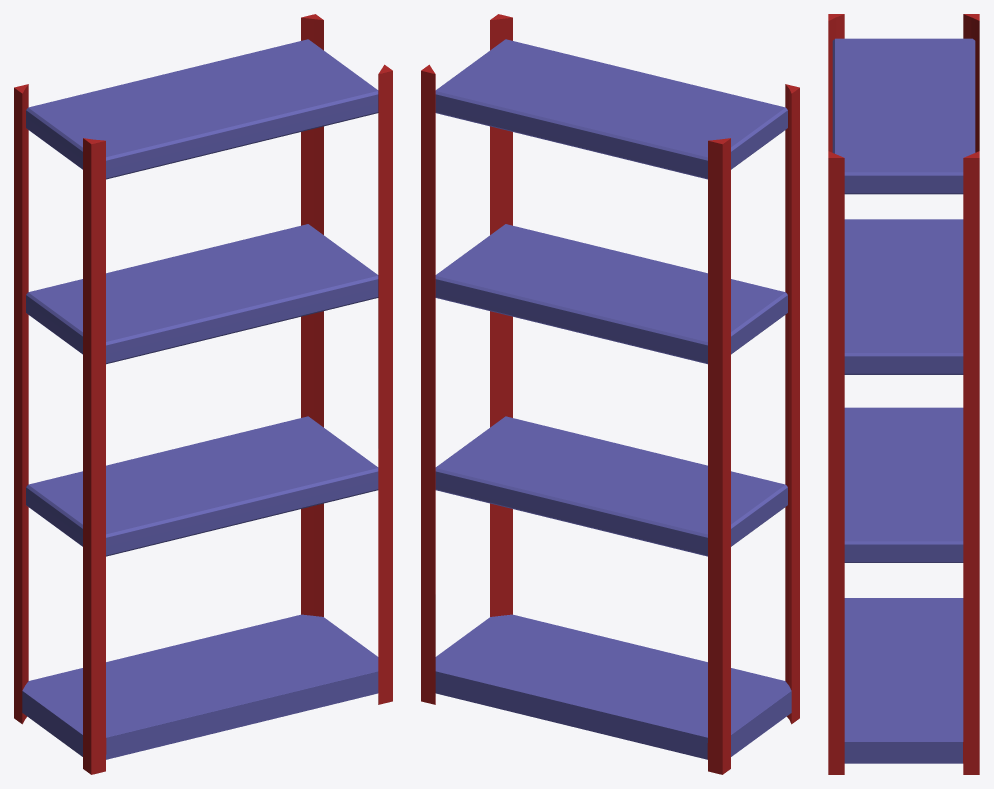
The model's file is 3D_Estanteria_Metal.fbx.
3 renders of one model, left to right at view 1: azimuth 30°, elevation 25°; view 2: azimuth 150°, elevation 25°; view 3: azimuth 270°, elevation 25°, orthographic. The views are drawn at different scales.
Parts seen in each view (by area): view 1: EstanteriaMetal; view 2: EstanteriaMetal; view 3: EstanteriaMetal.
Part boxes in pixels (x1,y1,x2,y2): EstanteriaMetal: (14, 14, 392, 774); EstanteriaMetal: (421, 14, 799, 774); EstanteriaMetal: (828, 14, 979, 774).
Size of the model in its own units: 90 by 180 by 40.
